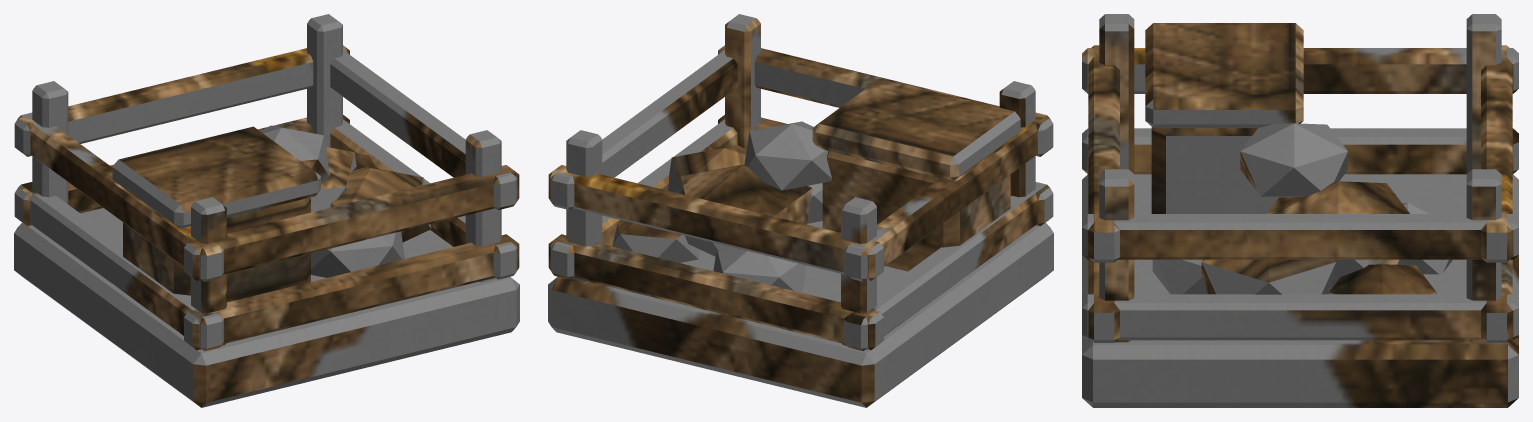
The model's file is stockpile.glb.
3 renders of one model, left to right at view 1: azimuth 30°, elevation 25°; view 2: azimuth 150°, elevation 25°; view 3: azimuth 270°, elevation 25°, orthographic. The views are drawn at different scales.
Parts seen in each view (by area): view 1: StockpileYard; view 2: StockpileYard; view 3: StockpileYard.
Part boxes in pixels (x1,y1,x2,y2): StockpileYard: [14, 14, 519, 407]; StockpileYard: [548, 14, 1053, 407]; StockpileYard: [1082, 14, 1518, 407].
Bounding box in the file's own units: 1.38 × 0.78 × 1.38.
1 material, 1 textured.
